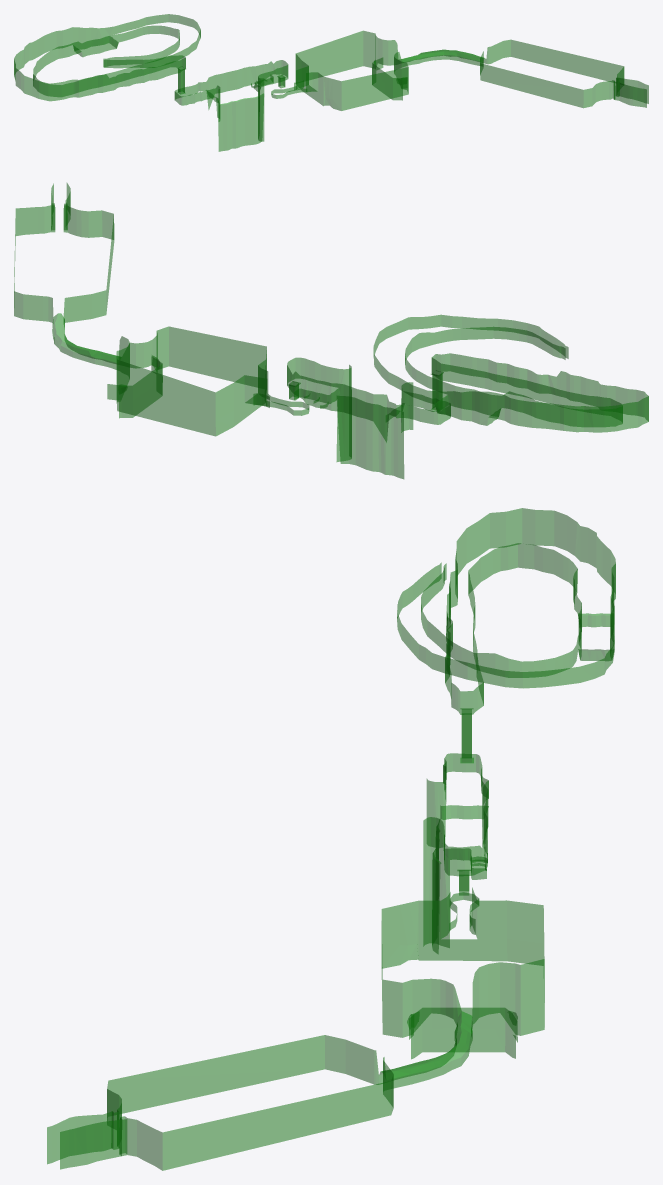
File: wall.obj
The picture shows the model from 3 angles, top to bottom: view 1: azimuth 30°, elevation 25°; view 2: azimuth 150°, elevation 25°; view 3: azimuth 270°, elevation 25°; orthographic projection. The views are drawn at different scales.
Bounding box in the file's own units: 888 × 196 × 422.
